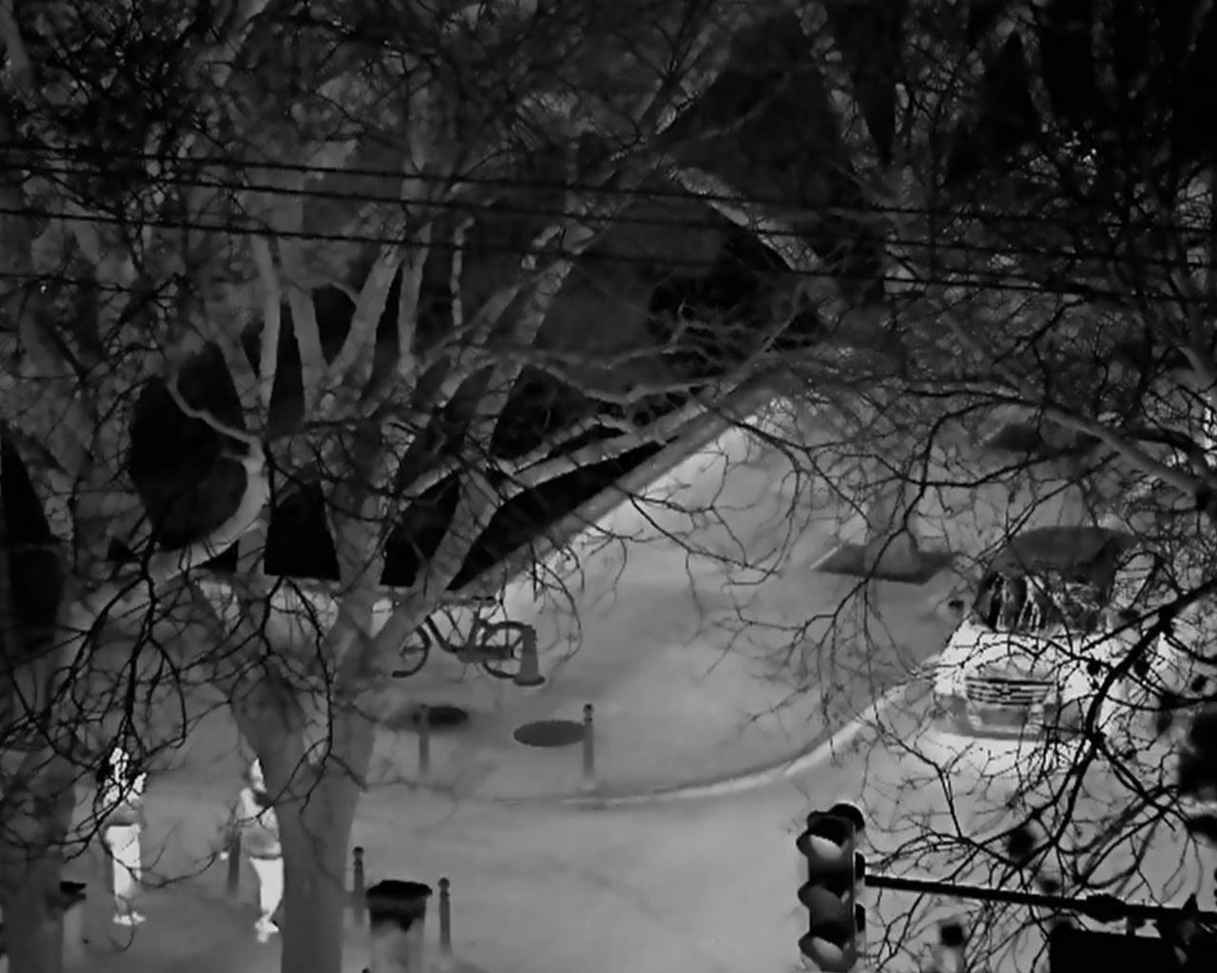person: (97, 746, 150, 925), (235, 756, 284, 944)
